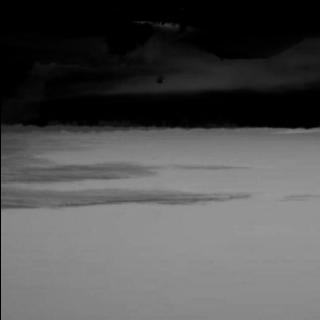Altostratus: (0, 127, 320, 208)
